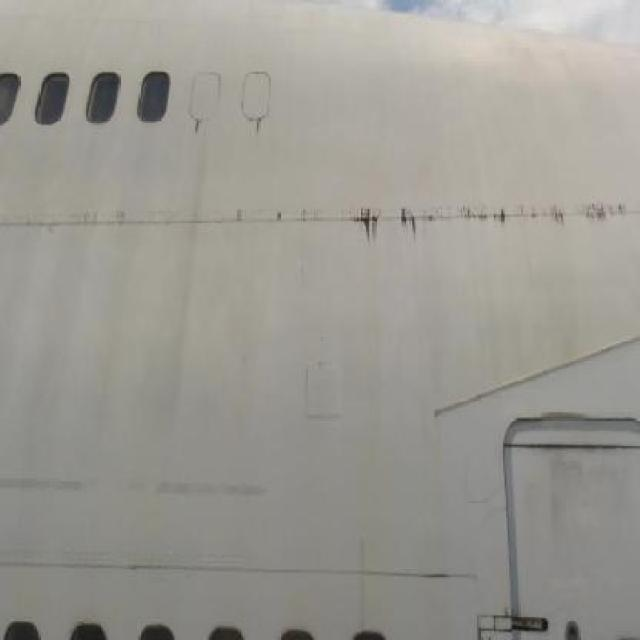Rust: (340, 186, 632, 276), (189, 110, 208, 138), (251, 117, 267, 141)
Scartch: (7, 461, 316, 525), (531, 453, 640, 521)
